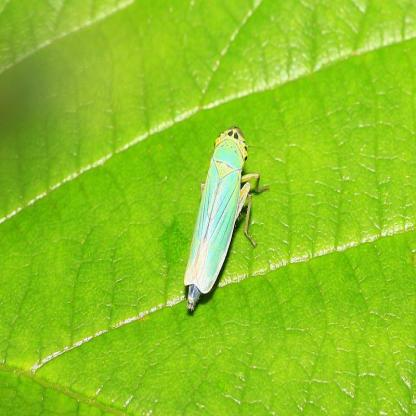Green-Leafhopper: (180, 124, 265, 320)
